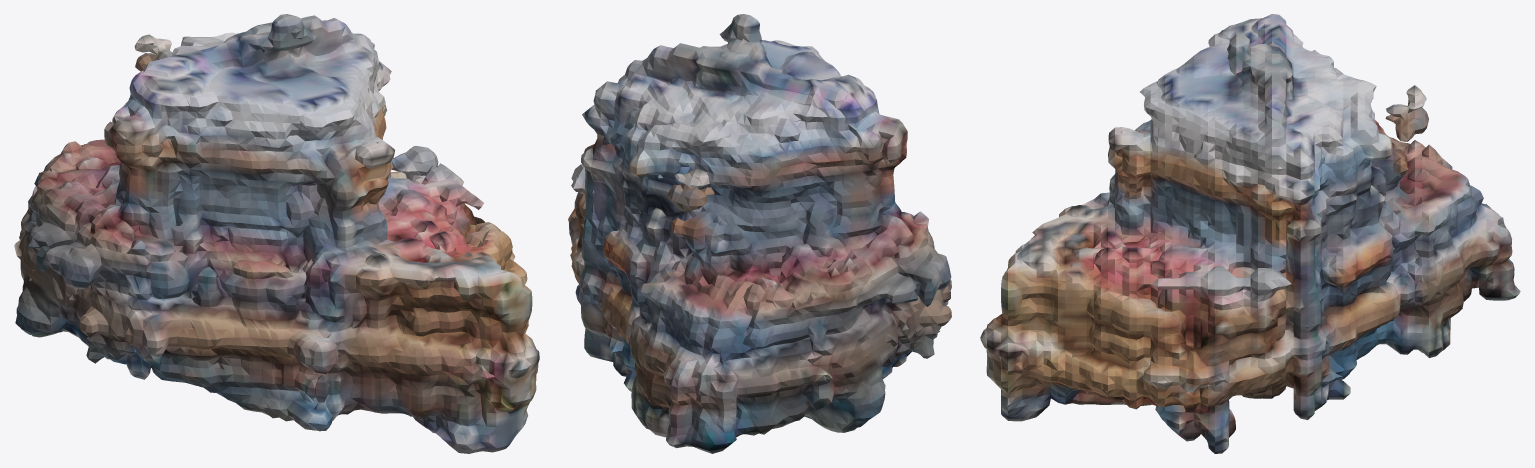
The model's file is three_view_refined_GODOT_YUP.glb.
3 views of the same model, side by side, from view 1: azimuth 30°, elevation 25°; view 2: azimuth 150°, elevation 25°; view 3: azimuth 270°, elevation 25° (orthographic). The views are drawn at different scales.
Parts seen in each view (by area): view 1: world; view 2: world; view 3: world.
Part boxes in pixels (x1=…): world: x1=14, y1=14, x2=539, y2=453; world: x1=568, y1=14, x2=951, y2=453; world: x1=980, y1=14, x2=1520, y2=453.
Bounding box in the file's own units: 0.8738 × 0.7249 × 1.04.
